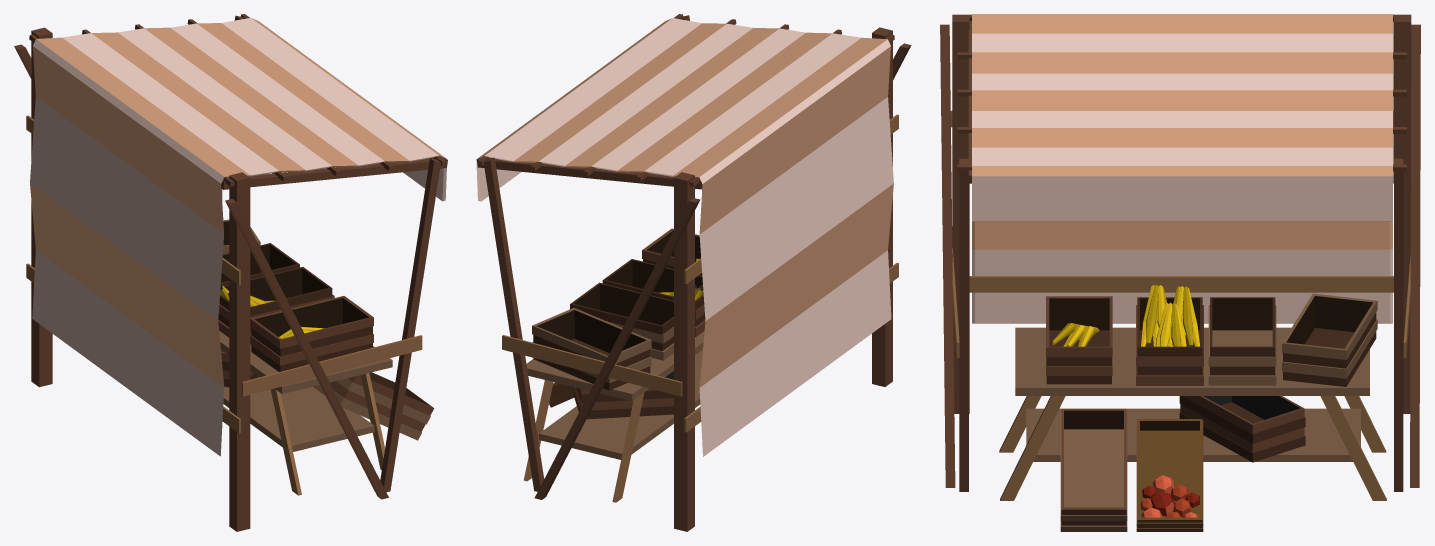
Rendered from stragan1.fbx.
3 views of the same model, side by side, from view 1: azimuth 30°, elevation 25°; view 2: azimuth 150°, elevation 25°; view 3: azimuth 270°, elevation 25° (orthographic). The views are drawn at different scales.
Visible parts, largest first — view 1: Sphere.011; view 2: Sphere.011; view 3: Sphere.011.
Part boxes in pixels (bbox=[...]): Sphere.011: bbox=[14, 14, 447, 531]; Sphere.011: bbox=[476, 14, 911, 531]; Sphere.011: bbox=[940, 14, 1420, 531].
Size of the model in its own units: 157 by 203 by 226.
